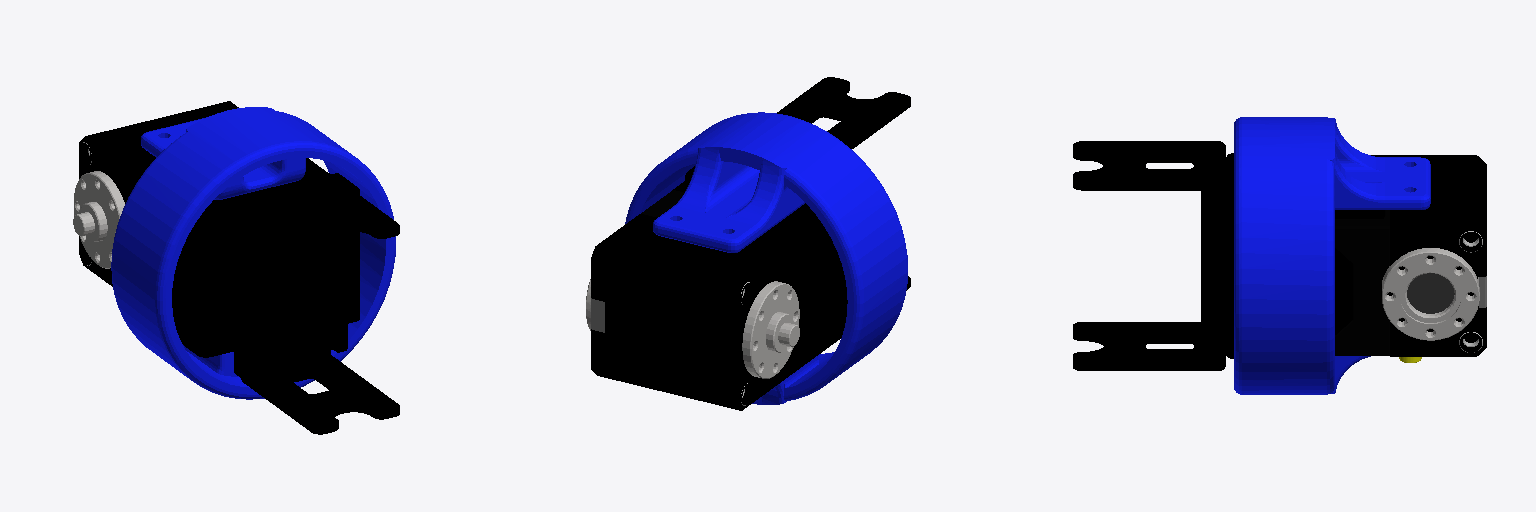
Rendered from link_V_color.obj.
3 views of the same model, side by side, from view 1: azimuth 30°, elevation 25°; view 2: azimuth 150°, elevation 25°; view 3: azimuth 270°, elevation 25° (orthographic).
Visible parts, largest first — view 1: 솔리드1:1, 솔리드1:2, 솔리드1, 솔리드1:3; view 2: 솔리드1, 솔리드1:1, 솔리드1:2; view 3: 솔리드1:1, 솔리드1, 솔리드1:2, 솔리드10, 솔리드1:3.
Part boxes in pixels (left/top/right/bottom): 솔리드1:1: left=111, top=107, right=395, bottom=399; 솔리드1:2: left=234, top=173, right=399, bottom=434; 솔리드1: left=73, top=101, right=328, bottom=317; 솔리드1:3: left=173, top=173, right=359, bottom=357; 솔리드1: left=586, top=176, right=841, bottom=410; 솔리드1:1: left=625, top=112, right=907, bottom=404; 솔리드1:2: left=777, top=77, right=910, bottom=290; 솔리드1:1: left=1234, top=117, right=1430, bottom=394; 솔리드1: left=1335, top=155, right=1486, bottom=356; 솔리드1:2: left=1073, top=141, right=1225, bottom=370; 솔리드10: left=1335, top=210, right=1389, bottom=355; 솔리드1:3: left=1226, top=153, right=1233, bottom=358.
Bounding box in the file's own units: 55 × 55 × 82.25.